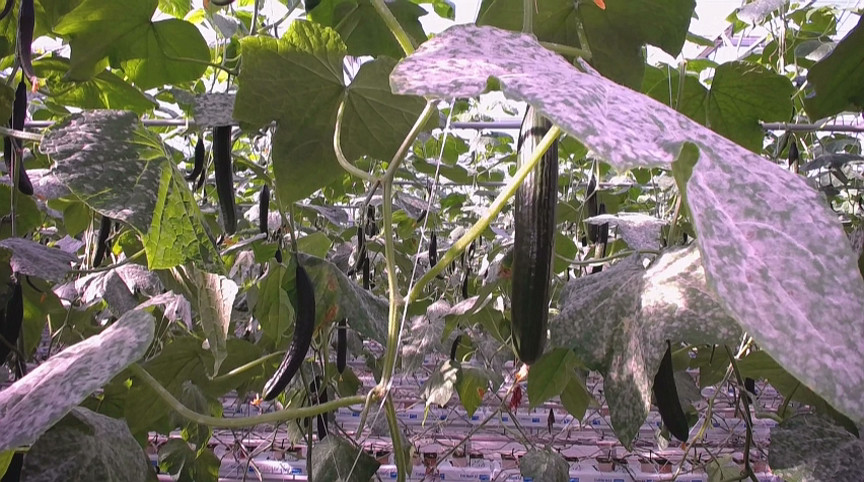cucumber: (515, 106, 565, 360), (263, 266, 320, 398), (653, 346, 688, 440), (6, 82, 34, 194), (211, 125, 238, 236)
